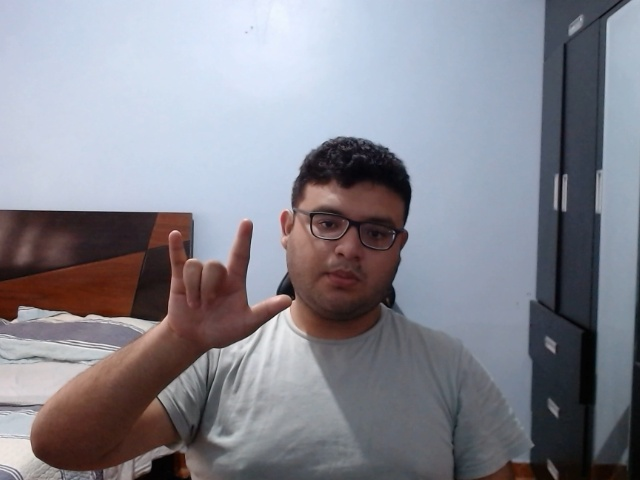I love you: (161, 214, 294, 356)
